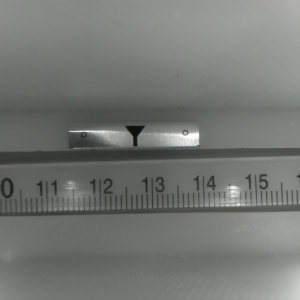0: (1, 177, 14, 198)
1: (245, 174, 252, 190), (88, 179, 95, 194), (141, 177, 147, 193), (36, 180, 42, 196), (193, 176, 199, 191), (51, 180, 57, 195), (296, 172, 300, 188)
2: (103, 178, 113, 193)
3: (154, 177, 164, 193)
4: (206, 176, 216, 191)
5: (258, 174, 268, 189)
finger: (122, 126, 145, 147)
